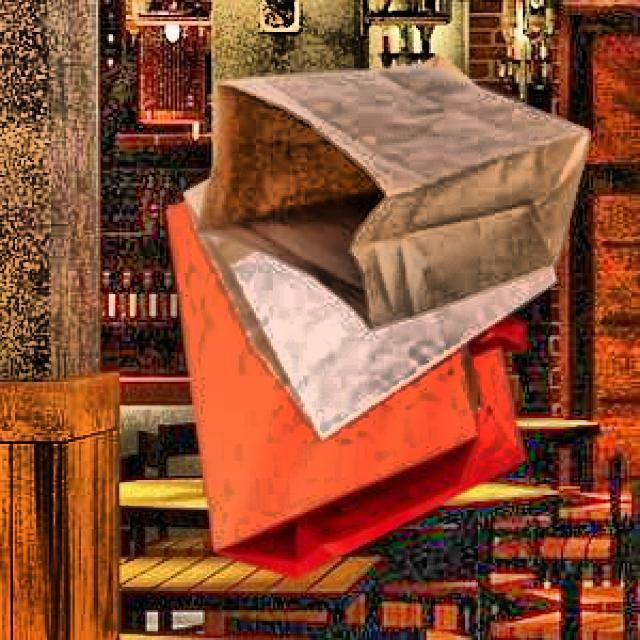Paper-bag: (150, 143, 532, 576), (171, 105, 575, 438), (197, 45, 585, 332)
